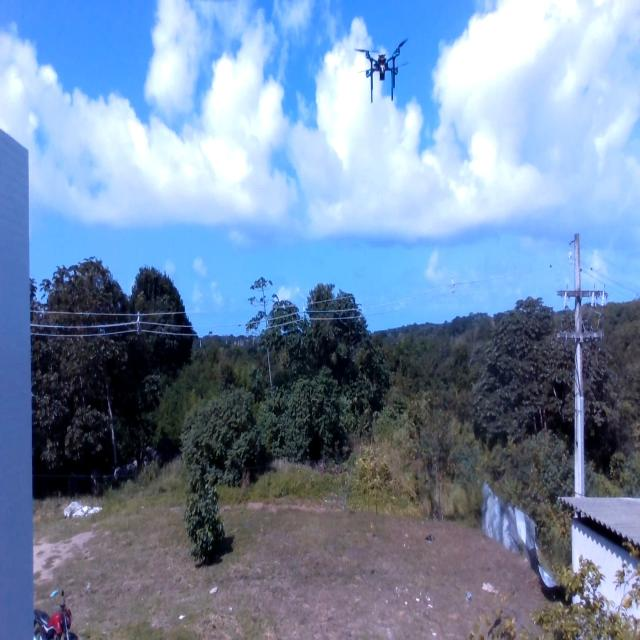-uav-: (348, 33, 414, 110)
